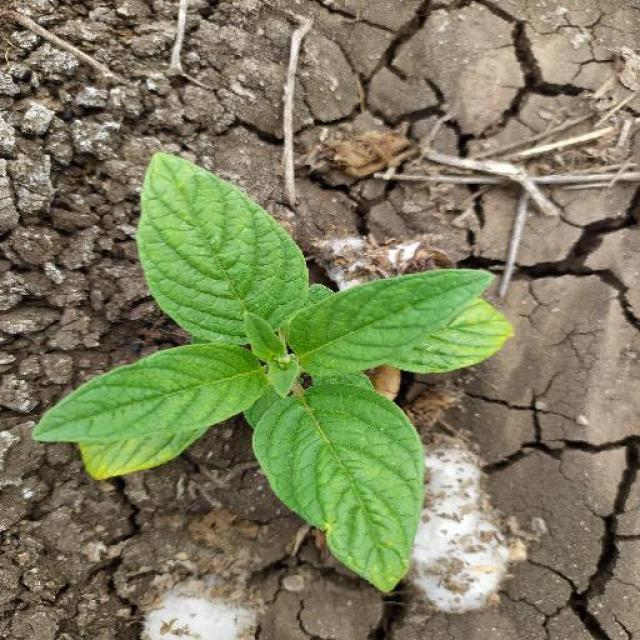crop: (42, 132, 520, 618)
